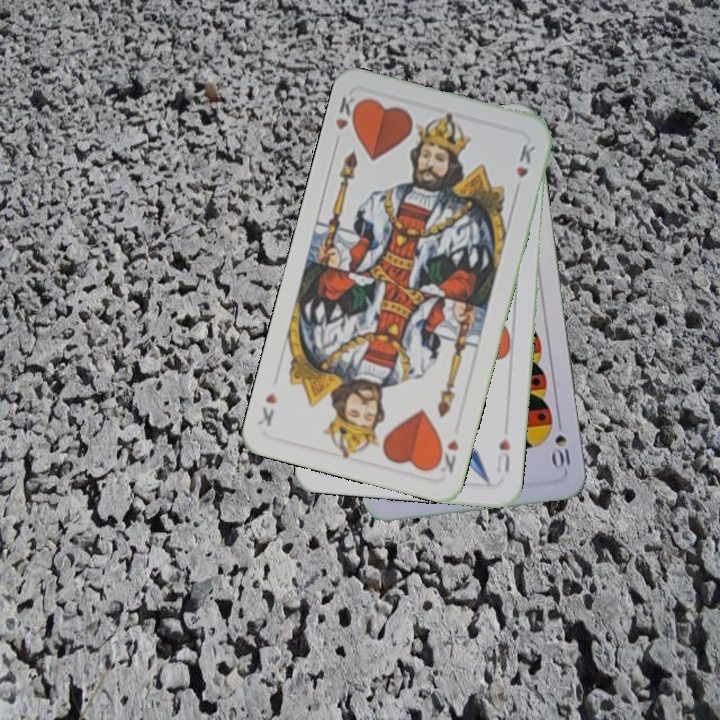HK: (330, 92, 364, 149), (436, 435, 462, 476)
HU: (492, 434, 513, 476)
S10: (549, 414, 573, 473)
